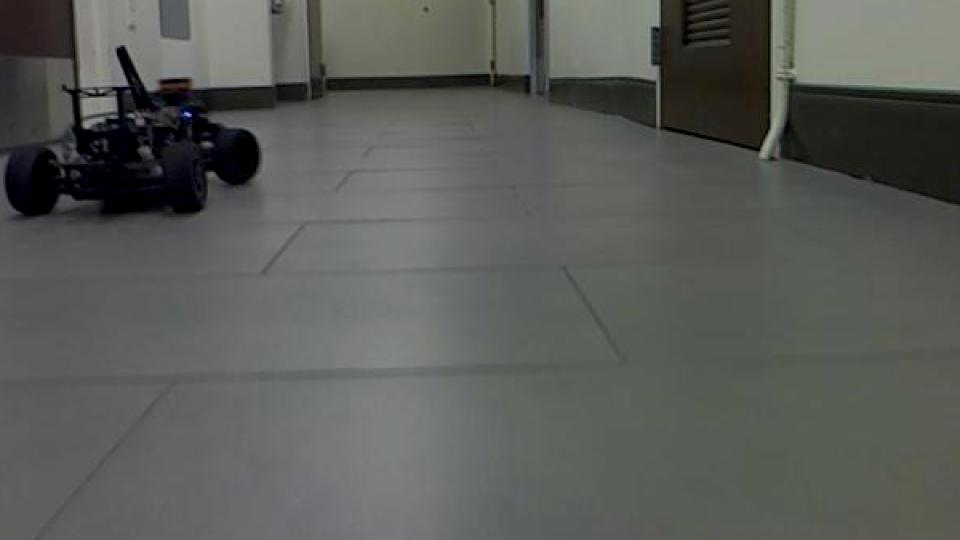car: (0, 41, 262, 220)
